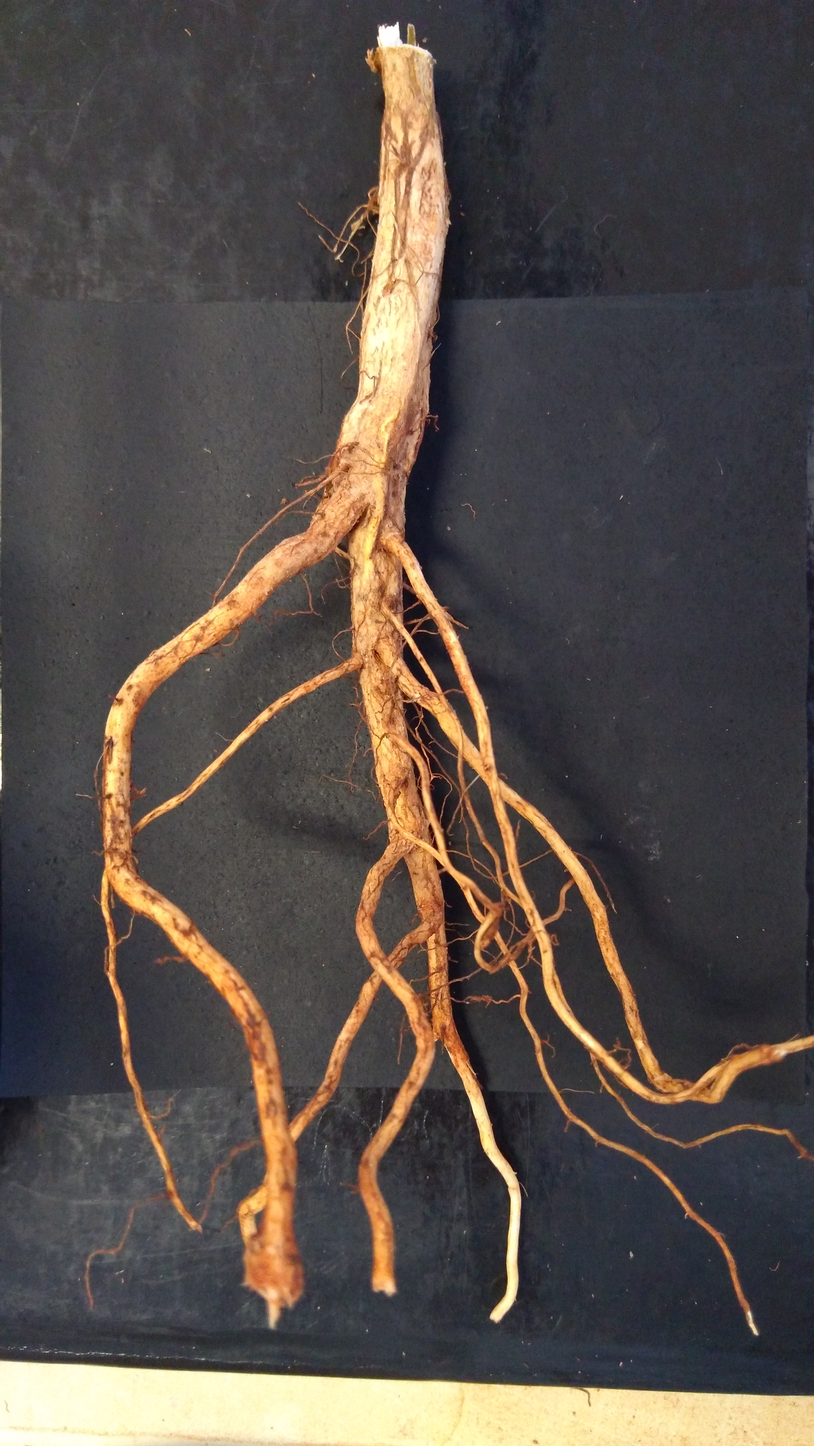nodule: (243, 1233, 305, 1307), (331, 466, 349, 491), (365, 55, 379, 74), (367, 192, 378, 215), (340, 445, 349, 459)
